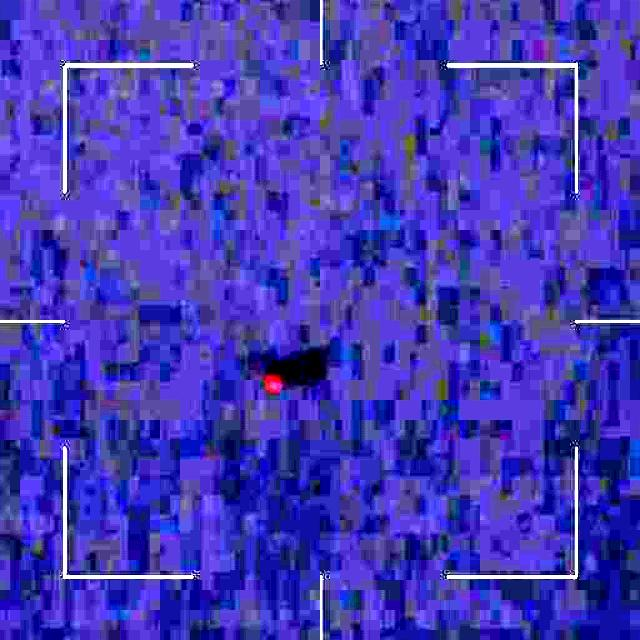bird: (256, 356, 289, 408)
